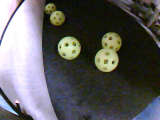Ball: (56, 35, 83, 60), (94, 48, 120, 72), (101, 32, 123, 52), (49, 11, 67, 26), (43, 2, 56, 15)
